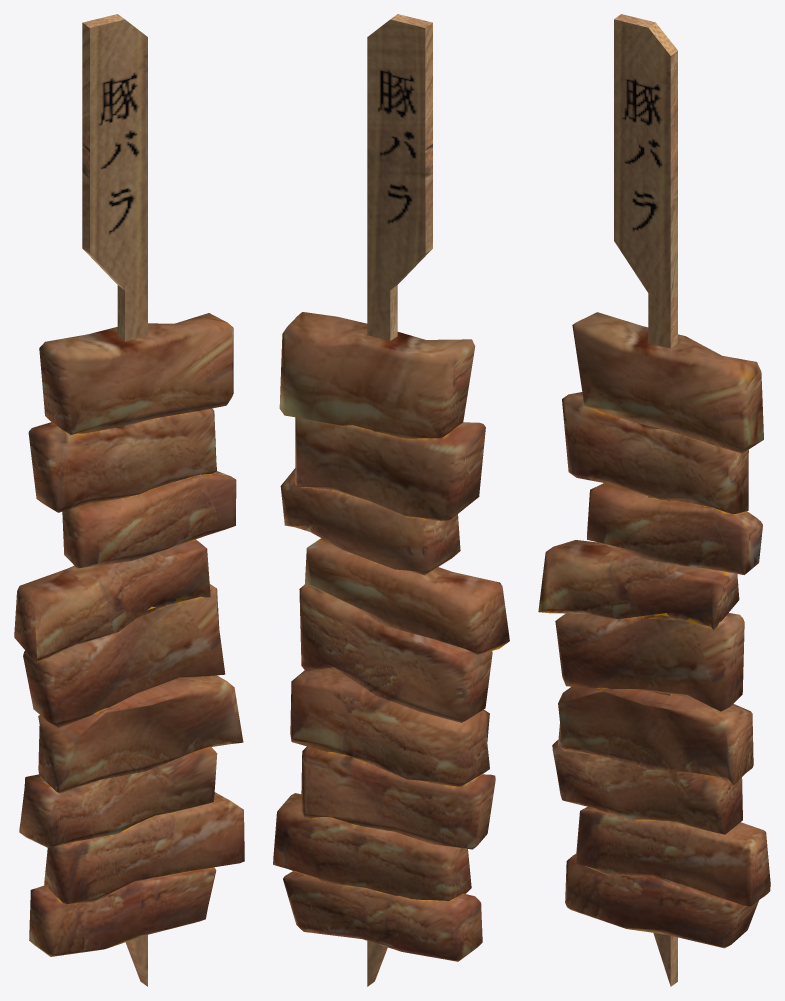
Rendered from porkbelly.fbx.
3 renders of one model, left to right at view 1: azimuth 30°, elevation 25°; view 2: azimuth 150°, elevation 25°; view 3: azimuth 330°, elevation 25°, orthographic. The views are drawn at different scales.
Visible parts, largest first — view 1: porkbelly; view 2: porkbelly; view 3: porkbelly.
Boxes of the visible parts, x1,y1,x2,y2 form: porkbelly: [14, 14, 244, 986]; porkbelly: [273, 14, 509, 986]; porkbelly: [538, 14, 770, 986].
Size of the model in its own units: 1.72 by 7.5 by 0.5769.
